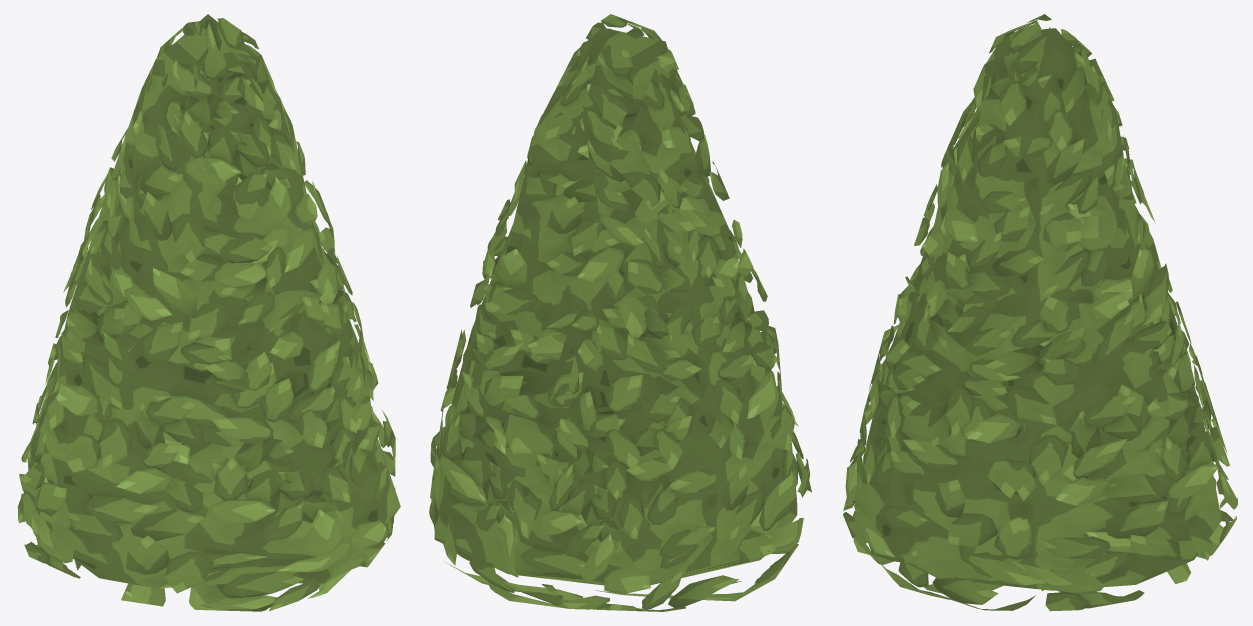
The model's file is SM_Env_Hedge_Topiary_02.fbx.
3 renders of one model, left to right at view 1: azimuth 30°, elevation 25°; view 2: azimuth 150°, elevation 25°; view 3: azimuth 270°, elevation 25°, orthographic.
Parts seen in each view (by area): view 1: SM_Env_Hedge_Topiary_02_LOD0; view 2: SM_Env_Hedge_Topiary_02_LOD0; view 3: SM_Env_Hedge_Topiary_02_LOD0.
Boxes of the visible parts, x1=… form: SM_Env_Hedge_Topiary_02_LOD0: x1=17, y1=14, x2=400, y2=611; SM_Env_Hedge_Topiary_02_LOD0: x1=429, y1=14, x2=811, y2=611; SM_Env_Hedge_Topiary_02_LOD0: x1=843, y1=14, x2=1237, y2=611.
Size of what is drawn, in the model's own units: 130 by 197 by 130.
